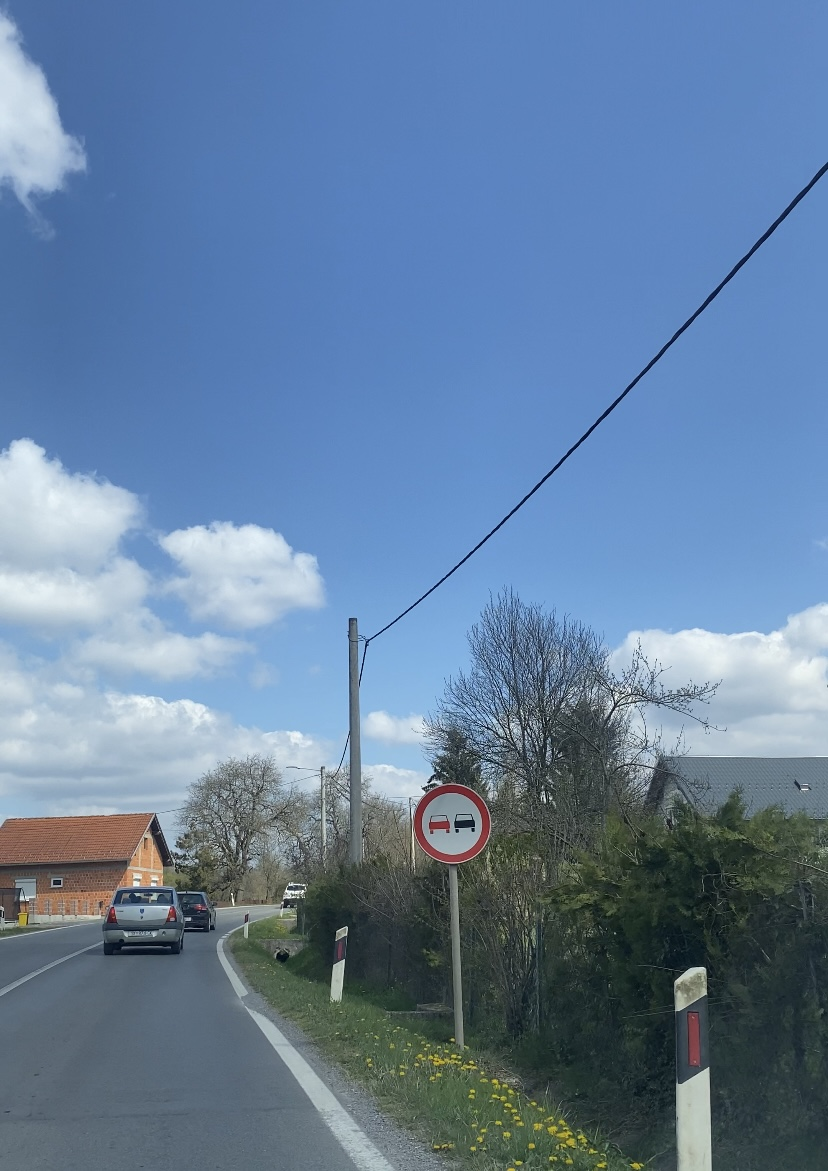Zabrana pretjecanja: (413, 783, 491, 863)
